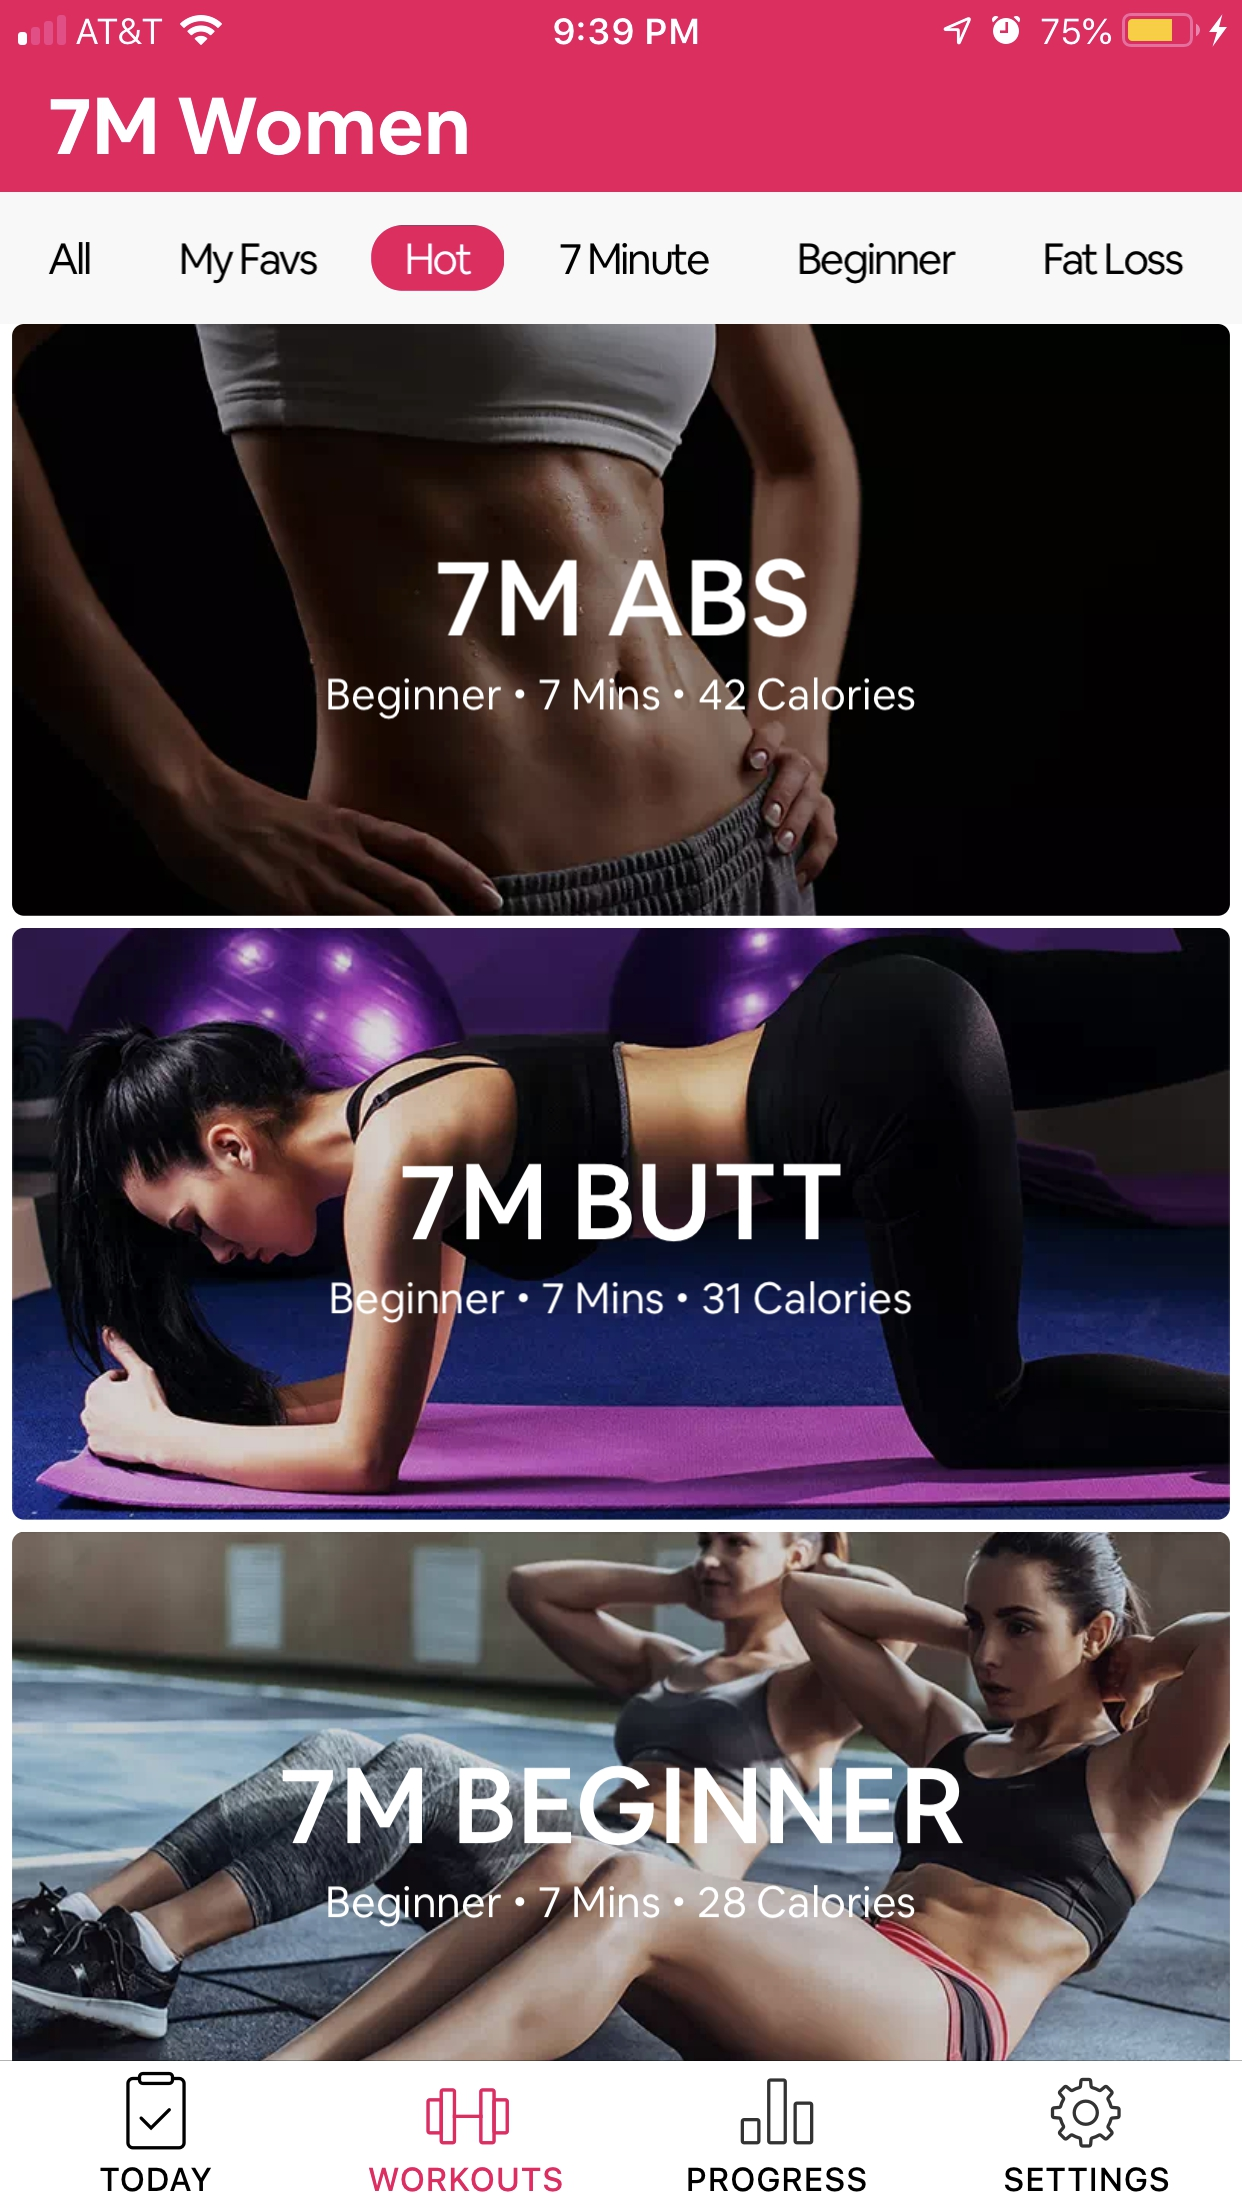Icon: (1049, 2078, 1122, 2149), (740, 2078, 814, 2146), (126, 2072, 187, 2150)
Image: (14, 928, 1231, 1521), (14, 325, 1231, 917), (12, 1532, 1230, 2061), (426, 2087, 511, 2146)
Text: (282, 1767, 964, 1844), (402, 1163, 842, 1240), (438, 558, 808, 638), (328, 1883, 914, 1927), (50, 97, 469, 158), (328, 678, 914, 720), (331, 1281, 911, 1324), (799, 243, 957, 285), (180, 243, 318, 285), (560, 243, 710, 278), (369, 2166, 563, 2191), (1043, 243, 1184, 278), (687, 2166, 867, 2191), (1004, 2166, 1169, 2191), (100, 2166, 212, 2191), (49, 243, 93, 276)
TextButton: (370, 224, 505, 293)
UpperTaskBar: (2, 2, 1242, 49)
